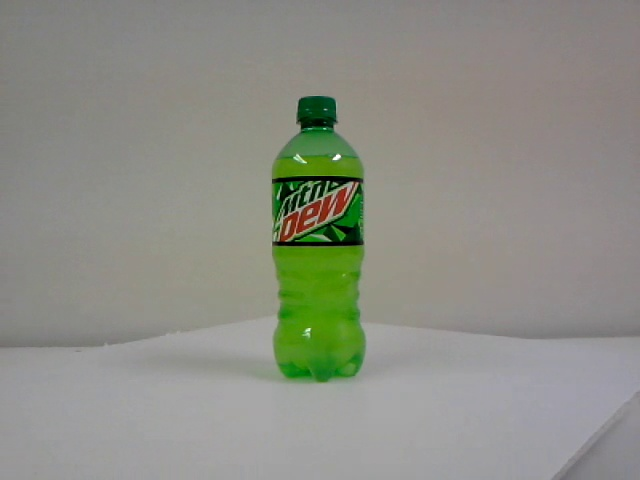botolplastik: (272, 97, 363, 381)
